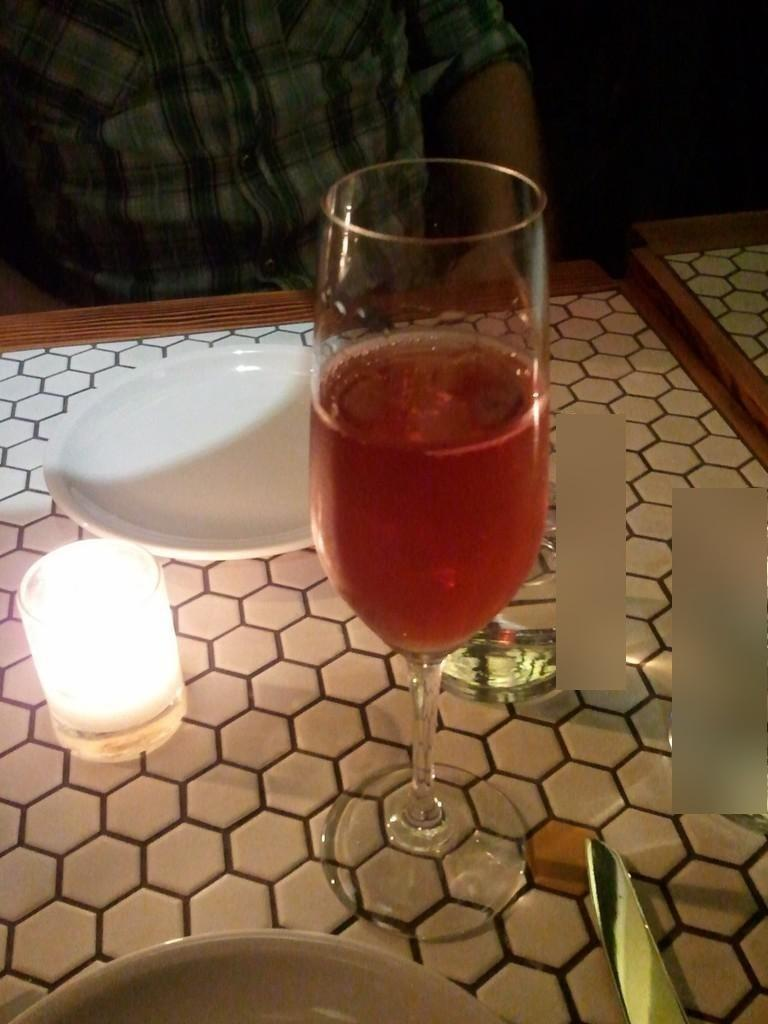glass-wine: (306, 160, 551, 947)
